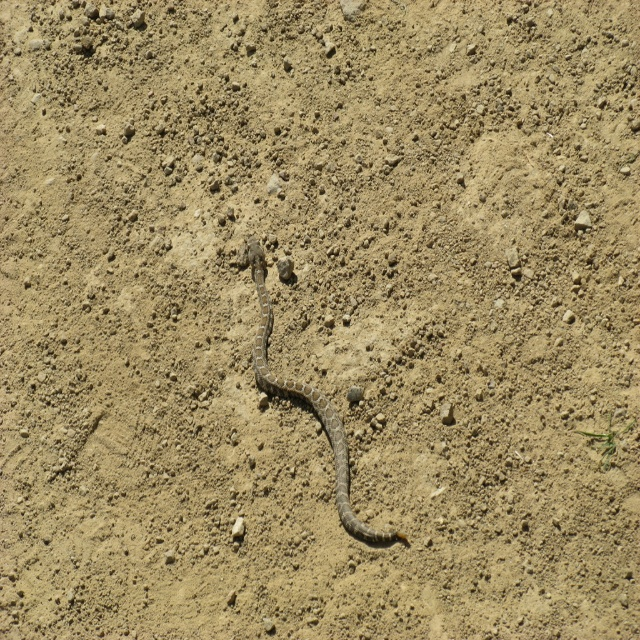Snake: (246, 231, 402, 547)
